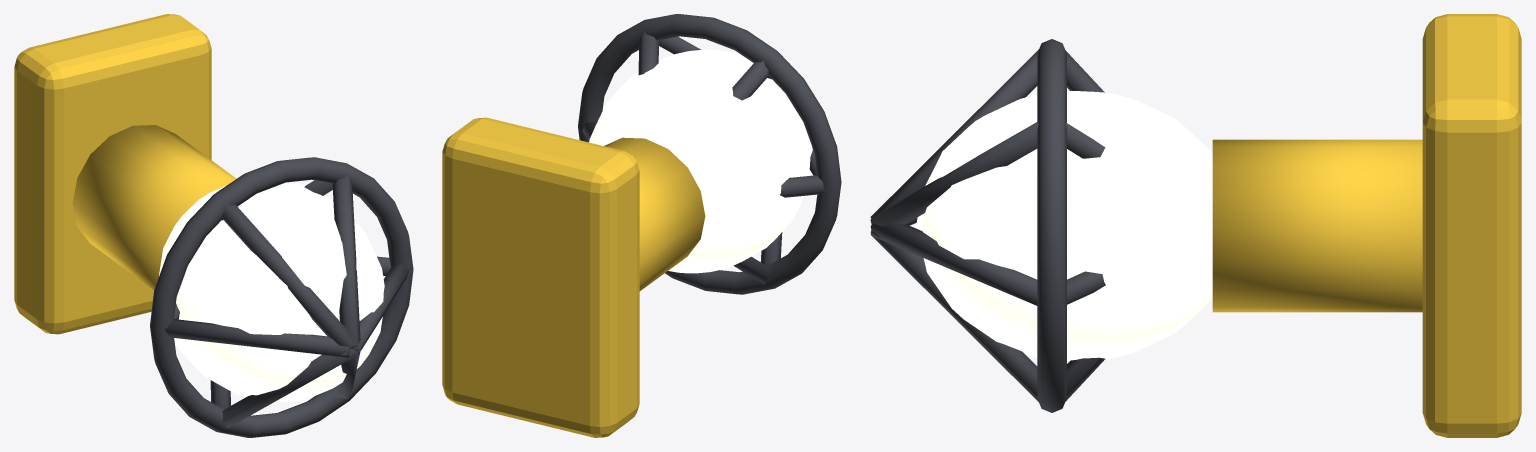
Rendered from Wall_LampCage.fbx.
3 renders of one model, left to right at view 1: azimuth 30°, elevation 25°; view 2: azimuth 150°, elevation 25°; view 3: azimuth 270°, elevation 25°, orthographic. The views are drawn at different scales.
Parts seen in each view (by area): view 1: Wall_LampCage; view 2: Wall_LampCage; view 3: Wall_LampCage.
Part boxes in pixels (x1=…): Wall_LampCage: x1=14, y1=14, x2=413, y2=437; Wall_LampCage: x1=442, y1=14, x2=841, y2=437; Wall_LampCage: x1=870, y1=14, x2=1521, y2=437.
Size of the model in its own units: 0.304 by 0.304 by 0.527.
